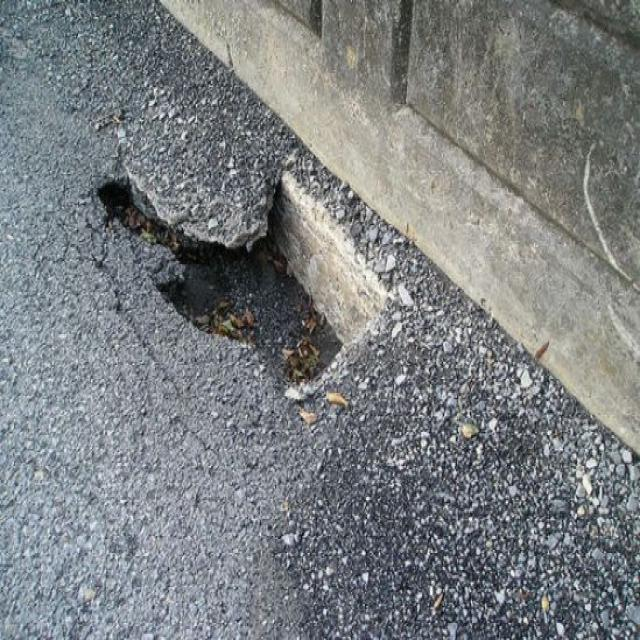pothole: (87, 158, 386, 410)
